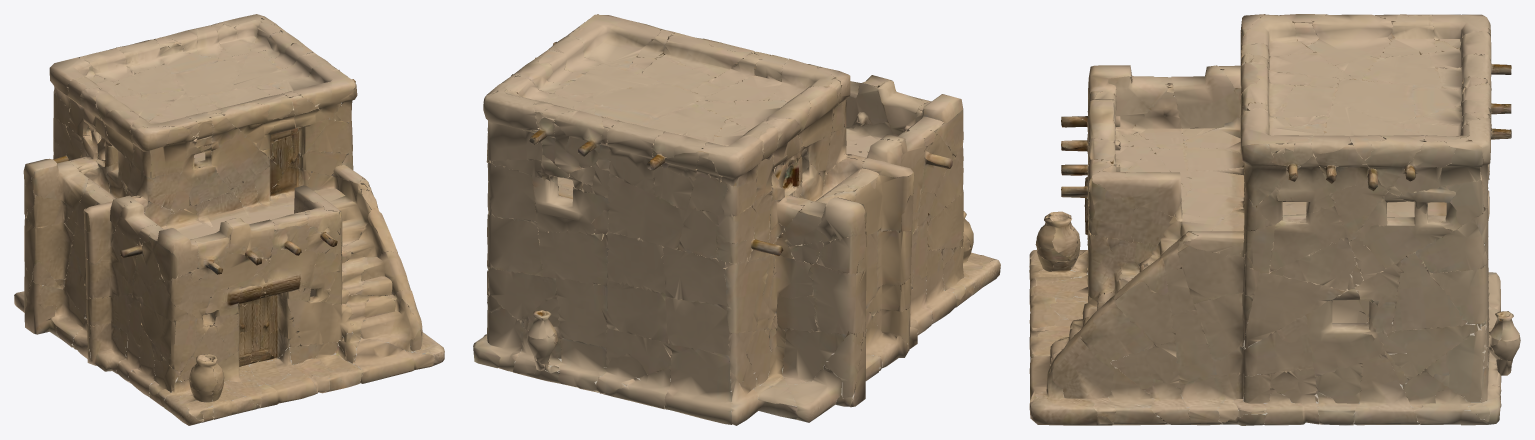
File: a117_duz_damli_kerpic_ev.glb
3 views of the same model, side by side, from view 1: azimuth 30°, elevation 25°; view 2: azimuth 150°, elevation 25°; view 3: azimuth 270°, elevation 25° (orthographic). The views are drawn at different scales.
Parts seen in each view (by area): view 1: Mesh_0; view 2: Mesh_0; view 3: Mesh_0.
Part boxes in pixels (bbox=[...]): Mesh_0: bbox=[14, 14, 444, 425]; Mesh_0: bbox=[473, 14, 1000, 425]; Mesh_0: bbox=[1029, 14, 1520, 425].
Bounding box in the file's own units: 1.66 × 1.2 × 1.9.
Materials: 1 (1 with a texture image).
